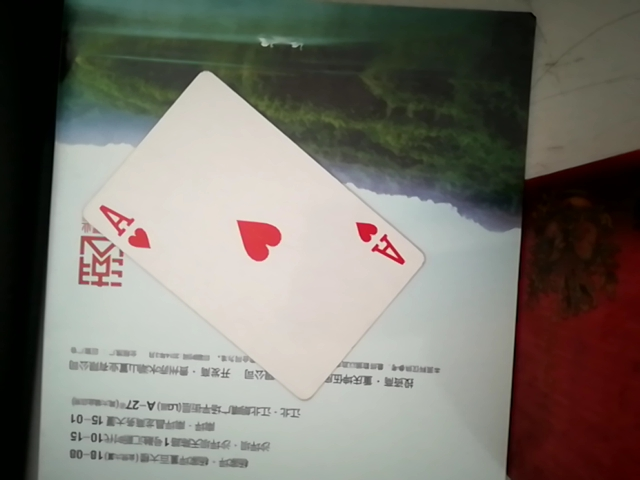hx a: (65, 73, 446, 402)
